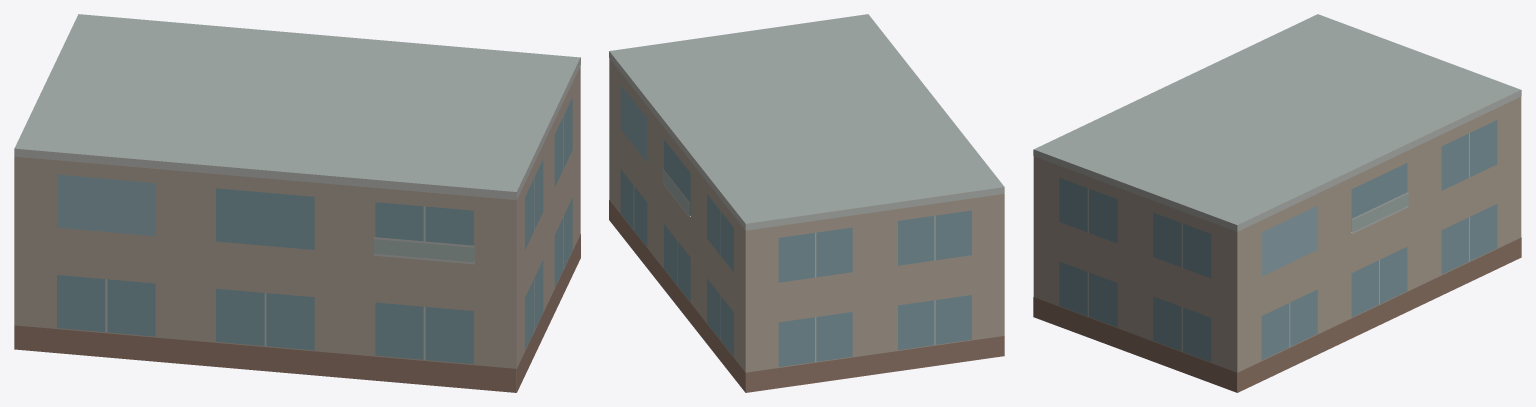
File: survey-upis-32697743.glb
3 views of the same model, side by side, from view 1: azimuth 30°, elevation 25°; view 2: azimuth 150°, elevation 25°; view 3: azimuth 270°, elevation 25° (orthographic). The views are drawn at different scales.
Parts seen in each view (by area): view 1: survey-upis-32697743.tmp; view 2: survey-upis-32697743.tmp; view 3: survey-upis-32697743.tmp.
Boxes of the visible parts, <box> form: survey-upis-32697743.tmp: <box>14,14,580,392</box>; survey-upis-32697743.tmp: <box>609,14,1004,392</box>; survey-upis-32697743.tmp: <box>1033,14,1521,392</box>.
Size of the model in its own units: 16.48 by 6.1 by 16.09.
